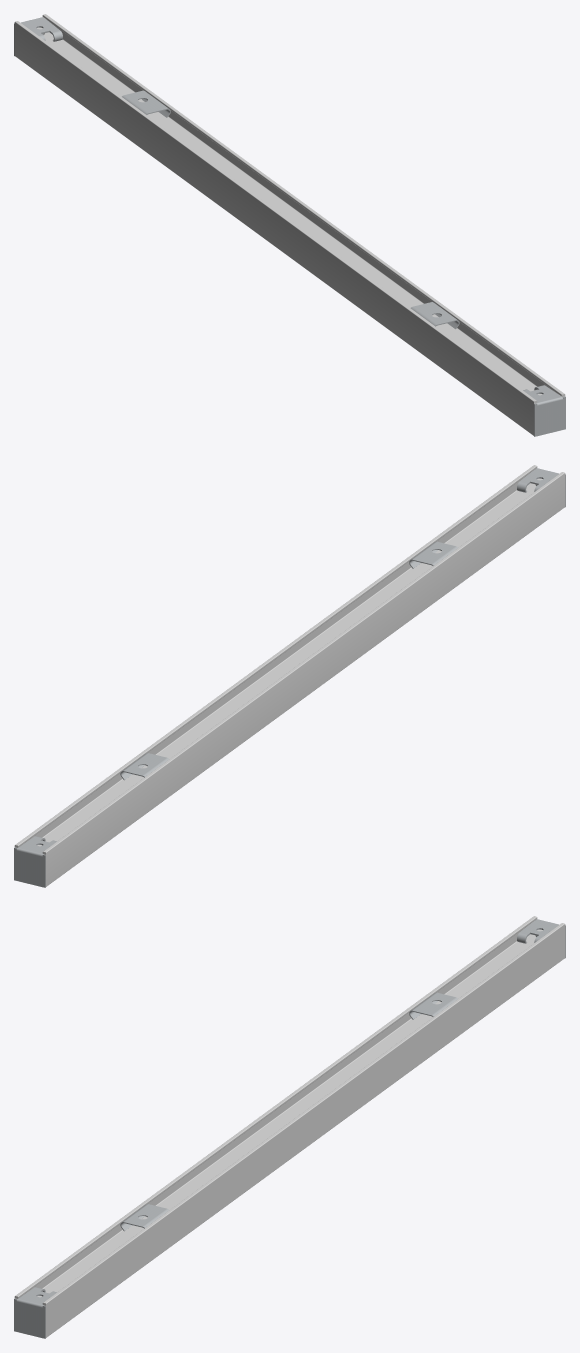
Rendered from Fit15Plafon.glb.
3 renders of one model, top to bottom at view 1: azimuth 30°, elevation 25°; view 2: azimuth 150°, elevation 25°; view 3: azimuth 330°, elevation 25°, orthographic.
Visible parts, largest first — view 1: 3DGeom-1, 3DGeom-2 (×2), 3DGeom-3 (×2); view 2: 3DGeom-1, 3DGeom-2 (×2), 3DGeom-3 (×2); view 3: 3DGeom-1, 3DGeom-2 (×2), 3DGeom-3 (×2).
Boxes of the visible parts, box(x1,y1,x2,y2) form: 3DGeom-1: box(14, 14, 565, 435); 3DGeom-2 (×2): box(14, 17, 565, 436); 3DGeom-3 (×2): box(122, 90, 459, 329); 3DGeom-1: box(14, 465, 565, 886); 3DGeom-2 (×2): box(14, 468, 565, 887); 3DGeom-3 (×2): box(120, 541, 457, 780); 3DGeom-1: box(14, 916, 565, 1337); 3DGeom-2 (×2): box(14, 919, 565, 1338); 3DGeom-3 (×2): box(120, 992, 457, 1231).
Bounding box in the file's own units: 0.0176 × 0.0187 × 0.5066.
3 materials, 1 textured.
